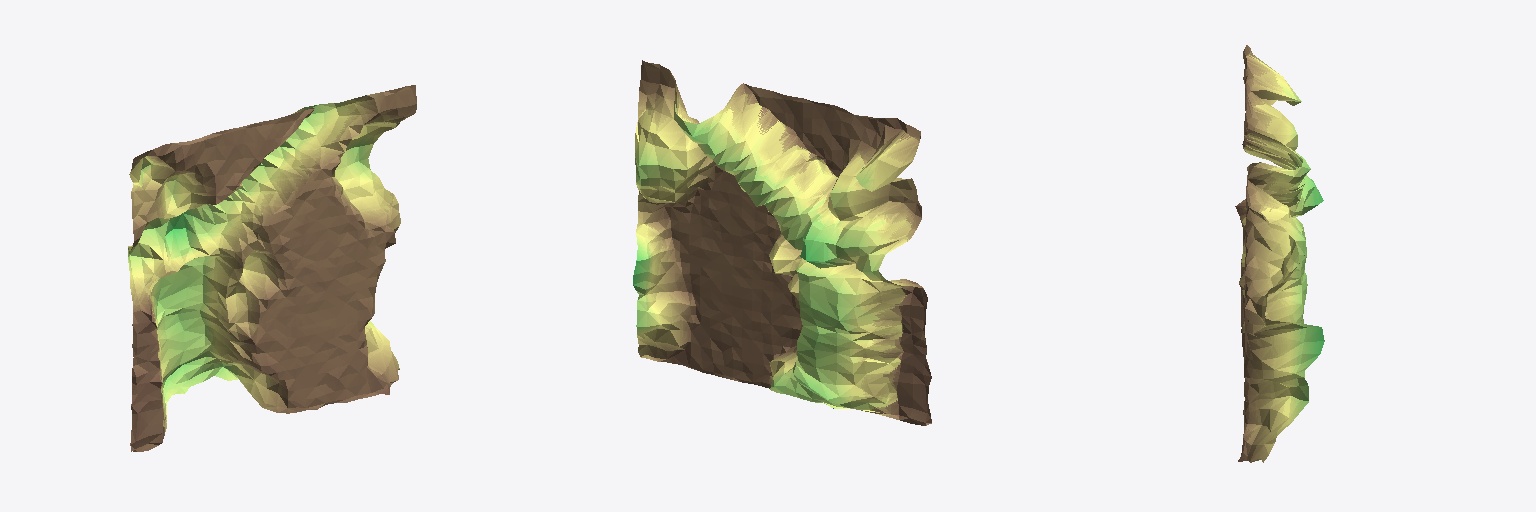
The picture shows the model from 3 angles: view 1: azimuth 30°, elevation 25°; view 2: azimuth 150°, elevation 25°; view 3: azimuth 270°, elevation 25°; orthographic projection.
Bounding box in the file's own units: 74.41 × 74.51 × 19.92.
1 materials, 1 textured.